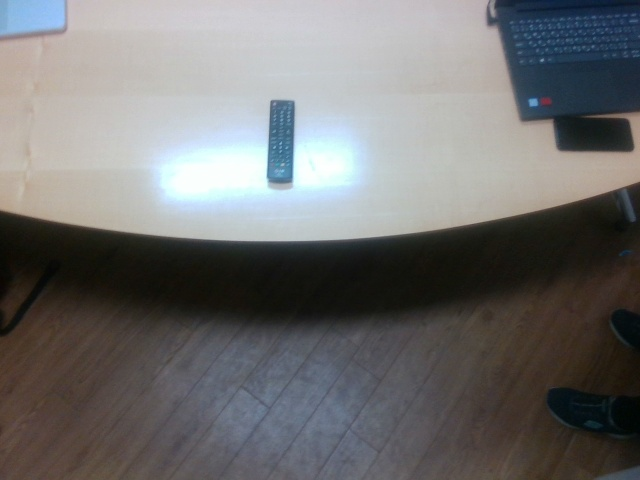remote: (267, 98, 294, 185)
